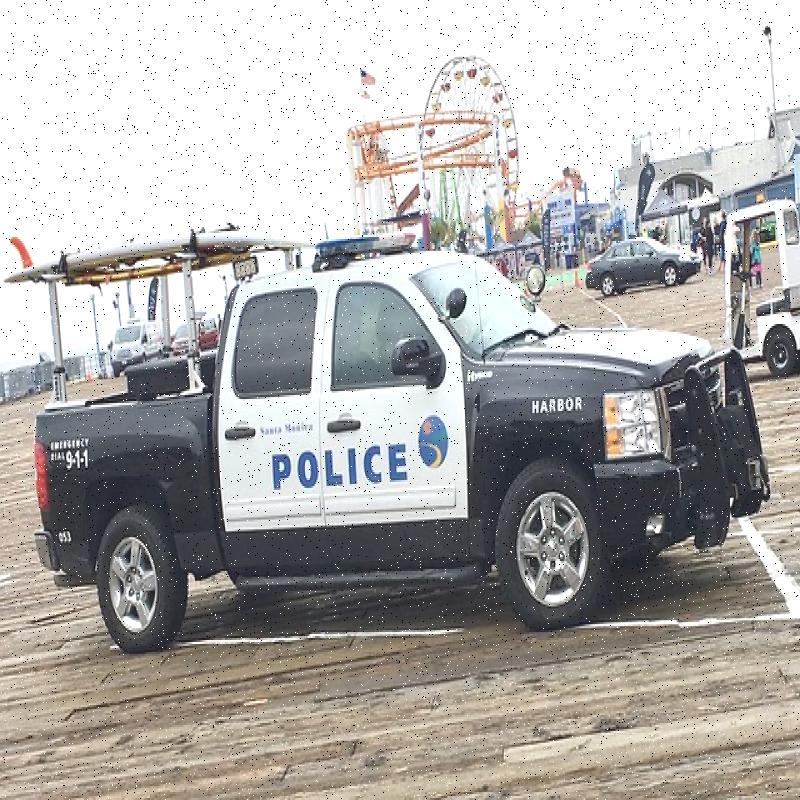AmbulanceSiren: (318, 223, 420, 266)
